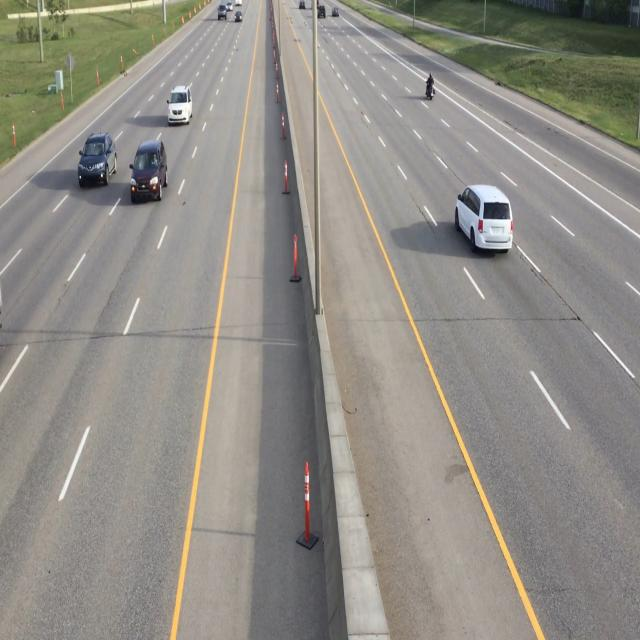Car: (455, 182, 517, 262), (131, 140, 169, 210), (78, 128, 118, 190), (168, 80, 194, 127)
